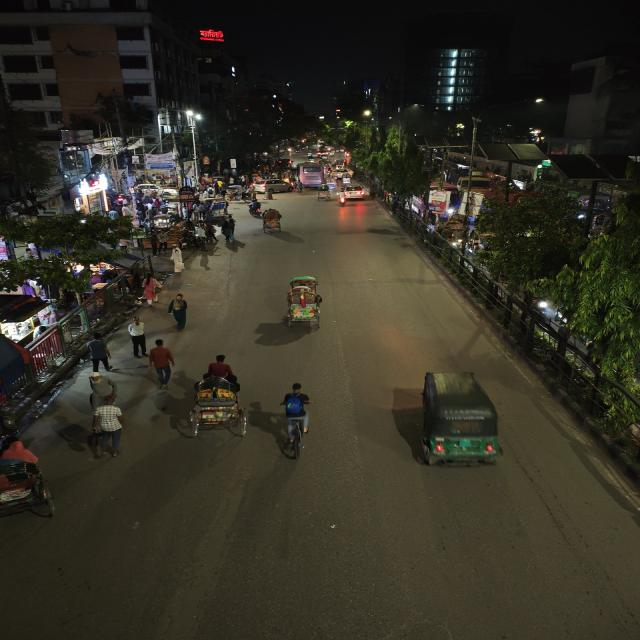bicycle: (268, 381, 319, 463), (296, 182, 304, 196)
bus: (296, 161, 330, 189)
car: (340, 184, 370, 202), (259, 179, 292, 194)
cng: (406, 367, 518, 472)
motorcycle: (337, 191, 347, 206)
pedestrian: (82, 394, 130, 458), (146, 338, 178, 390), (165, 291, 195, 333), (84, 333, 115, 373), (123, 318, 149, 358), (195, 233, 220, 271), (140, 273, 164, 309), (168, 245, 190, 273), (219, 215, 238, 243), (246, 197, 262, 217)
rickshaw: (0, 433, 62, 523), (182, 372, 251, 440), (276, 276, 330, 330), (259, 207, 286, 233), (314, 184, 334, 204)
